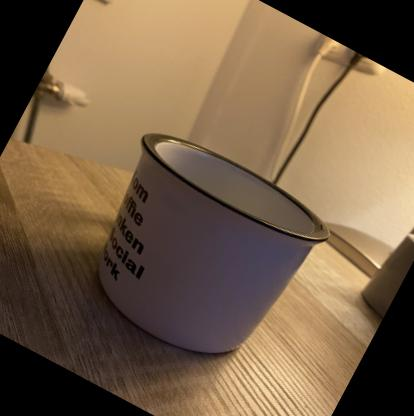Cup: (56, 113, 344, 392)
